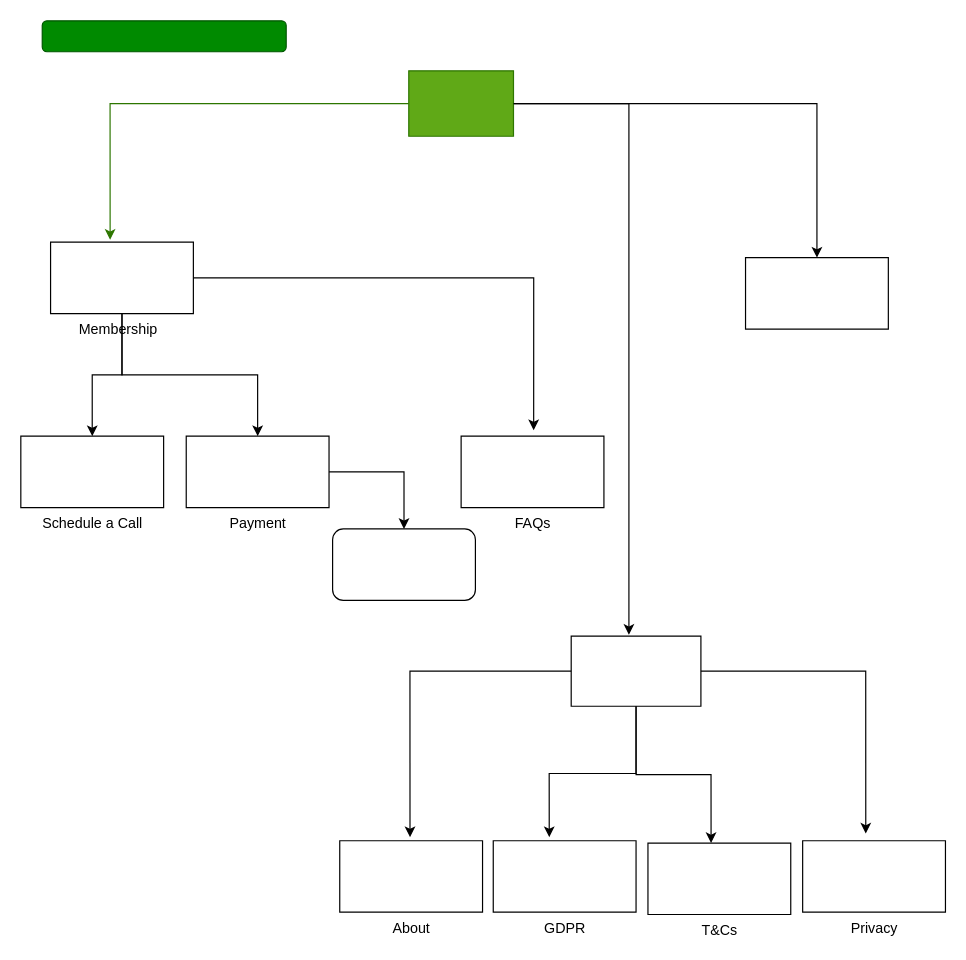
The diagram is 966 pixels wide and 960 high, and some of its shapes have lost their labels. Here are the shapes that lost their labels. From the top down, the centre of each, then its label:
At point (163, 36): "SYC Membership Information View".
At point (816, 292): "Contact".
At point (403, 564): "Stripe".
At point (635, 670): "Footer".
